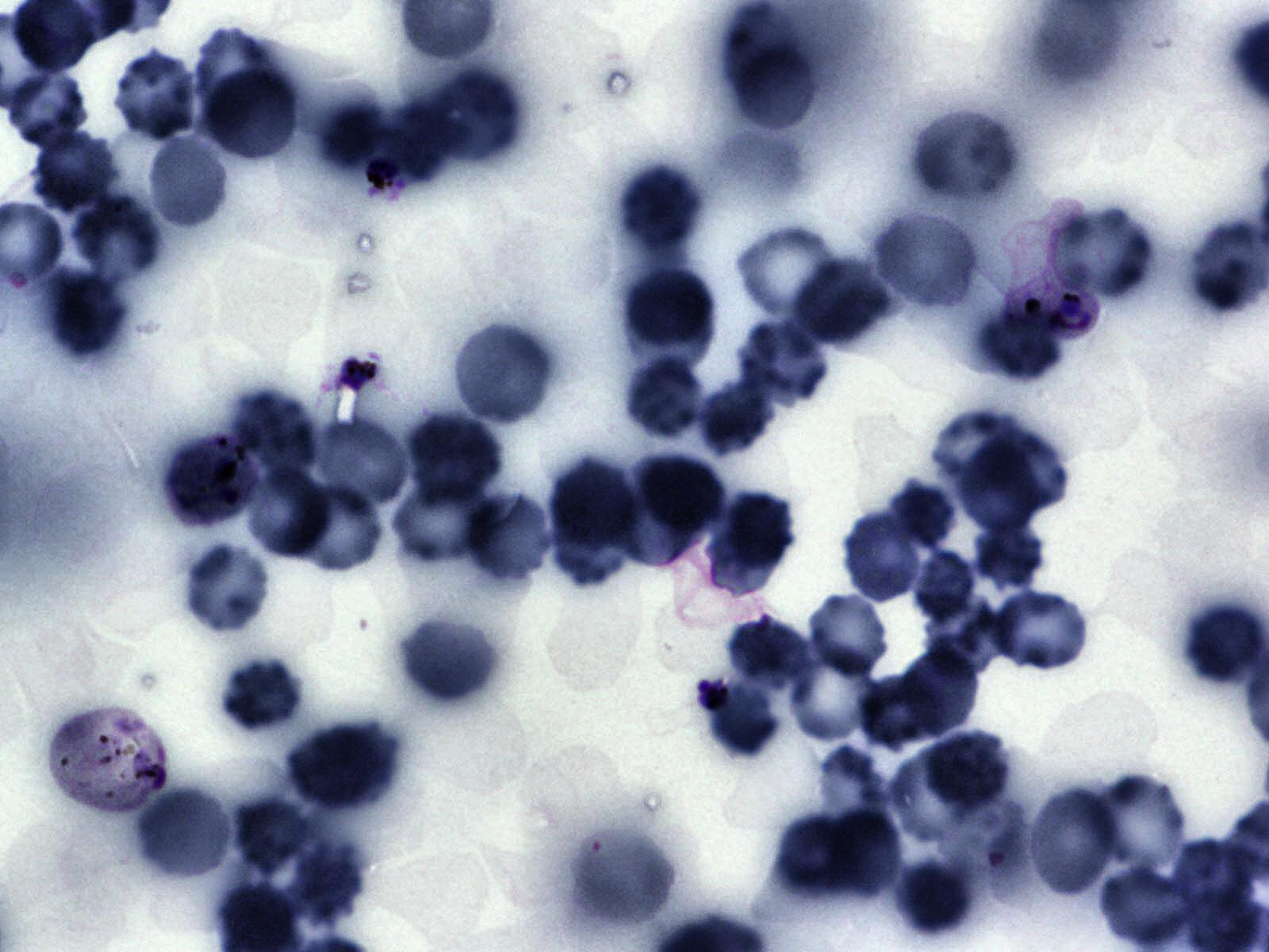Infected: (1006, 198, 1099, 343), (49, 707, 167, 816), (166, 438, 250, 531)
Uninfected: (734, 222, 840, 322), (1026, 790, 1120, 900), (453, 324, 553, 427), (876, 209, 976, 311), (201, 65, 301, 166), (574, 830, 675, 929), (288, 720, 391, 816), (1050, 205, 1151, 302), (912, 109, 1014, 203), (136, 785, 233, 883), (615, 458, 703, 566), (289, 479, 385, 577), (240, 461, 333, 562), (400, 612, 498, 705), (407, 411, 504, 504), (787, 645, 879, 743), (987, 589, 1091, 675), (181, 539, 273, 636), (144, 129, 230, 232), (1096, 775, 1186, 872), (311, 421, 409, 509), (229, 386, 322, 478), (429, 68, 519, 163), (463, 489, 551, 585), (627, 267, 711, 366), (738, 317, 831, 406), (70, 195, 164, 283), (792, 259, 888, 344), (842, 510, 926, 605), (551, 489, 634, 585), (921, 727, 1012, 814), (113, 51, 198, 142), (806, 592, 895, 678), (959, 443, 1045, 532), (734, 42, 819, 132), (194, 27, 268, 129), (390, 482, 485, 560), (980, 426, 1067, 511), (899, 648, 980, 738), (723, 2, 801, 95), (1099, 869, 1194, 945), (4, 68, 94, 148), (892, 747, 967, 843), (550, 458, 627, 551), (622, 357, 706, 442), (921, 596, 1003, 681), (48, 268, 127, 355), (934, 413, 1023, 490), (380, 104, 466, 183), (642, 453, 726, 533), (779, 818, 864, 897), (619, 167, 699, 250), (219, 658, 305, 735), (33, 132, 118, 209), (857, 675, 938, 752), (1184, 606, 1266, 682), (831, 811, 903, 897), (283, 848, 360, 928), (709, 509, 777, 599), (696, 377, 773, 455), (727, 621, 813, 689), (724, 490, 796, 570), (976, 314, 1062, 380), (894, 861, 968, 937), (707, 682, 780, 758), (232, 799, 304, 876), (911, 547, 971, 628), (888, 480, 957, 550), (974, 519, 1040, 592), (324, 103, 385, 165)
